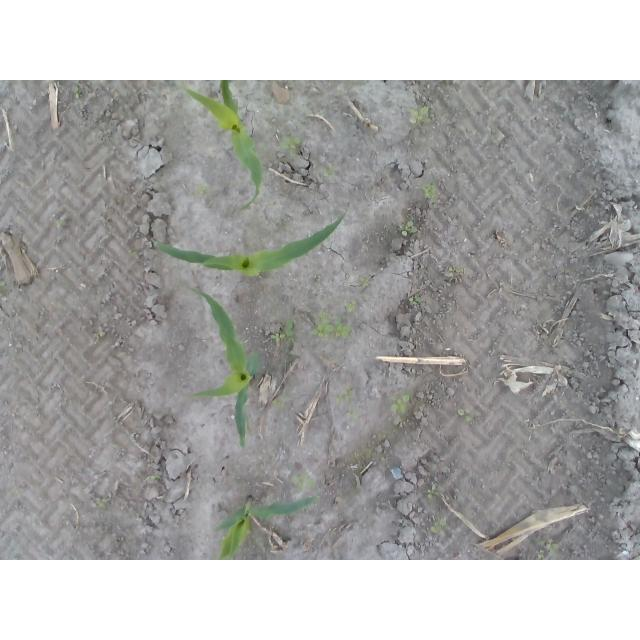Maize: (151, 210, 349, 276), (186, 286, 263, 450), (179, 81, 261, 211), (213, 493, 320, 560)
Weeds: (313, 311, 351, 337), (273, 319, 296, 345), (291, 472, 318, 490), (537, 541, 562, 560), (407, 108, 433, 125), (390, 395, 410, 415), (336, 388, 356, 405), (281, 137, 303, 152), (430, 519, 448, 536), (400, 221, 417, 238), (458, 408, 478, 422), (324, 166, 343, 180), (423, 183, 437, 202), (424, 483, 437, 501), (350, 405, 362, 419), (272, 395, 284, 409), (447, 267, 463, 277), (149, 472, 162, 484), (73, 85, 84, 99), (57, 214, 68, 227), (94, 496, 107, 505), (411, 294, 420, 306), (344, 301, 354, 311), (198, 184, 206, 193), (359, 278, 366, 286), (0, 279, 4, 285)
